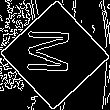M_E: (29, 31, 81, 79)
